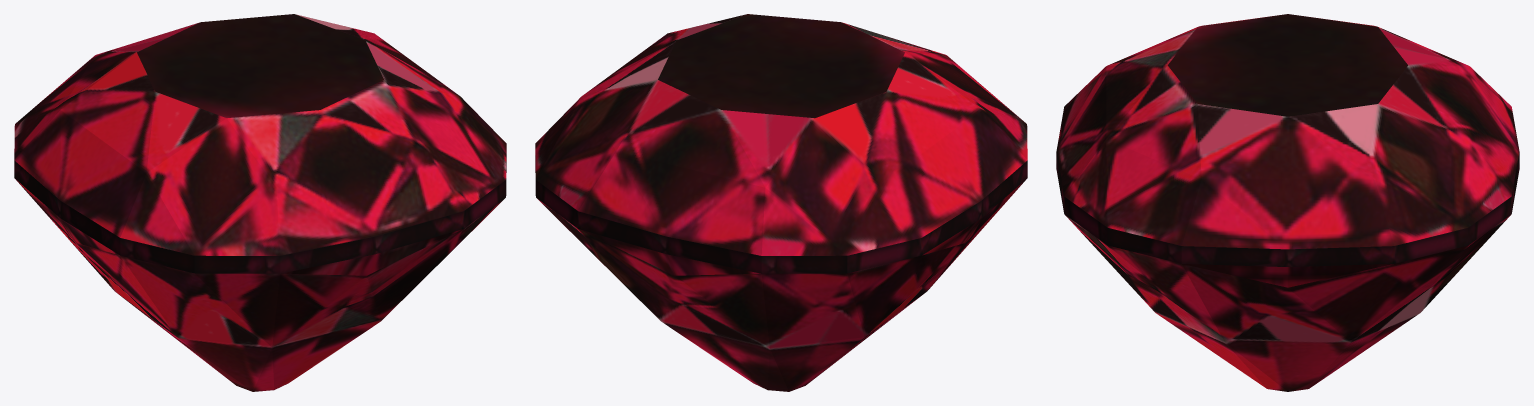
File: hongbaoshi.FBX
3 renders of one model, left to right at view 1: azimuth 30°, elevation 25°; view 2: azimuth 150°, elevation 25°; view 3: azimuth 270°, elevation 25°, orthographic.
Parts seen in each view (by area): view 1: smdimport; view 2: smdimport; view 3: smdimport.
Boxes of the visible parts, x1,y1,x2,y2 form: smdimport: (14,14,506,391); smdimport: (535,14,1027,391); smdimport: (1056,14,1519,391).
Size of the model in its own units: 0.8279 by 0.621 by 0.8279.
Materials: 1 (1 with a texture image).
